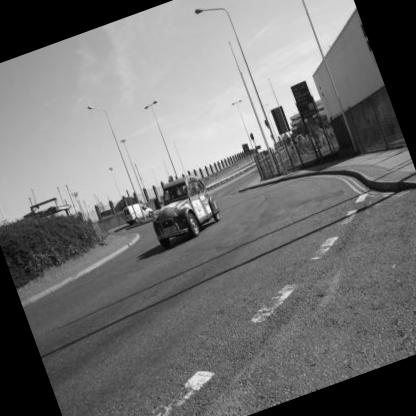car: (127, 144, 243, 261)
